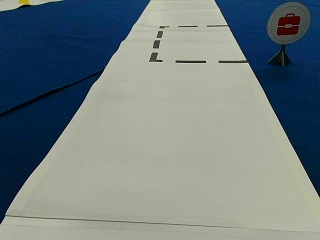company: (267, 2, 311, 43)
